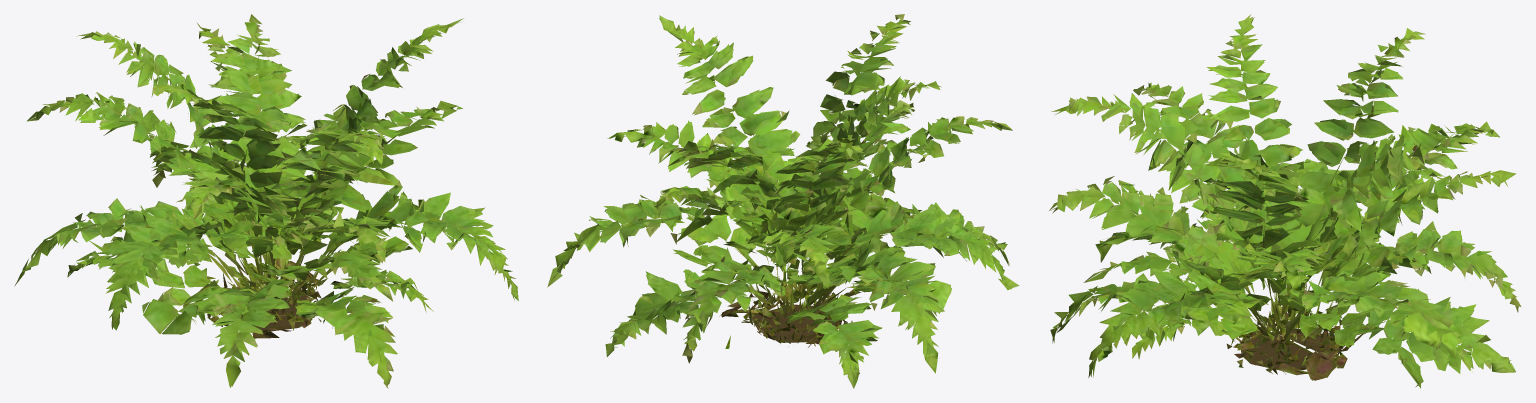
The model's file is fern.glb.
The picture shows the model from 3 angles, left to right: view 1: azimuth 30°, elevation 25°; view 2: azimuth 150°, elevation 25°; view 3: azimuth 270°, elevation 25°; orthographic projection. The views are drawn at different scales.
Visible parts, largest first — view 1: Mesh_0; view 2: Mesh_0; view 3: Mesh_0.
Boxes of the visible parts, x1=… form: Mesh_0: x1=14, y1=14, x2=518, y2=388; Mesh_0: x1=547, y1=14, x2=1019, y2=388; Mesh_0: x1=1049, y1=14, x2=1521, y2=388.
Size of the model in its own units: 0.9867 by 0.6516 by 1.01.
1 material, 1 textured.
